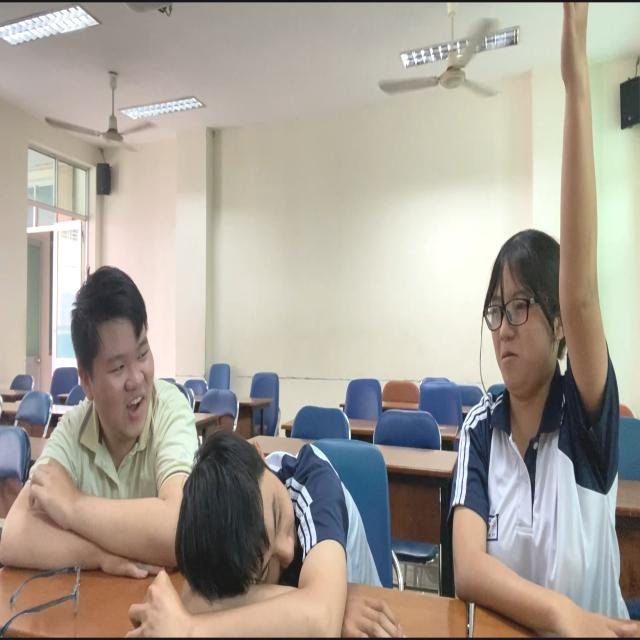raise_hand: (452, 3, 640, 640)
sleep: (173, 435, 378, 640)
